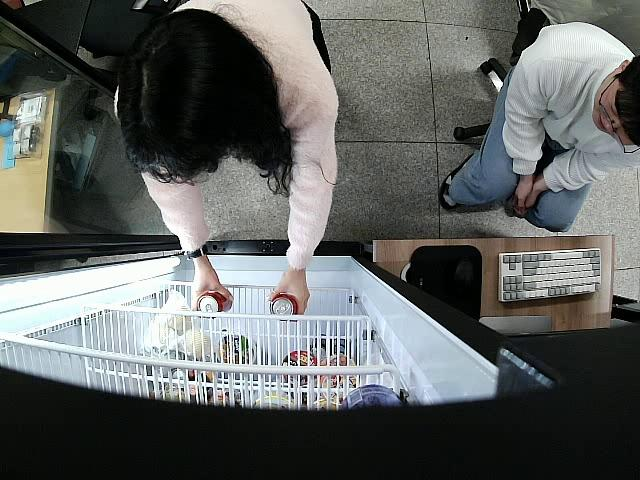00_hand: (267, 273, 310, 323), (191, 275, 235, 315)
11_cocaColaZero: (197, 291, 232, 314), (270, 294, 297, 318)
